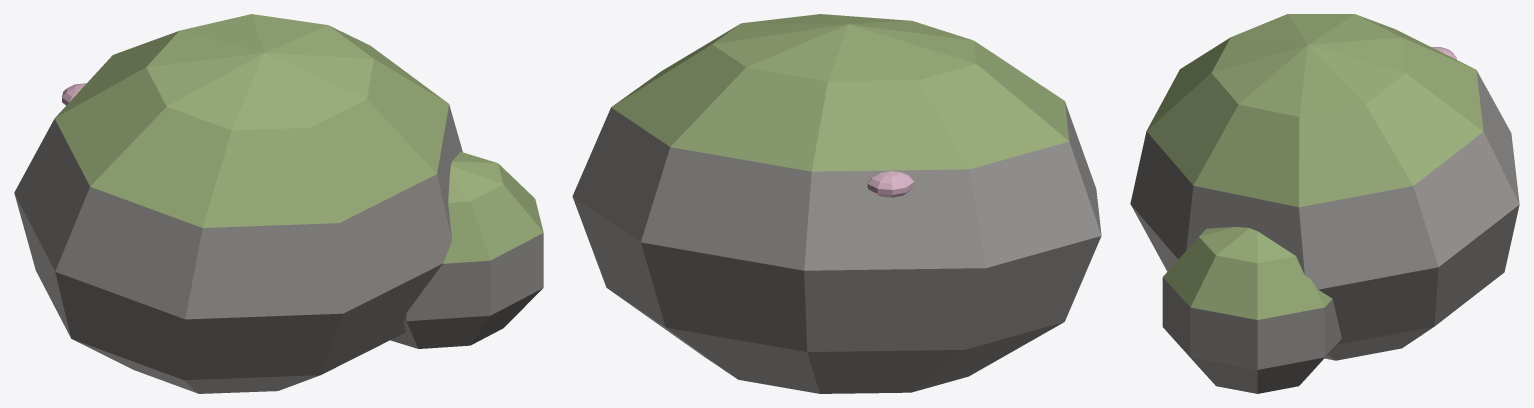
File: MossyBoulder.fbx
3 views of the same model, side by side, from view 1: azimuth 30°, elevation 25°; view 2: azimuth 150°, elevation 25°; view 3: azimuth 270°, elevation 25° (orthographic). The views are drawn at different scales.
Visible parts, largest first — view 1: Prop_MossyBoulder; view 2: Prop_MossyBoulder; view 3: Prop_MossyBoulder.
Part boxes in pixels (bbox=[...]): Prop_MossyBoulder: bbox=[14, 14, 543, 393]; Prop_MossyBoulder: bbox=[572, 14, 1101, 393]; Prop_MossyBoulder: bbox=[1130, 14, 1519, 393].
Size of the model in its own units: 1.37 by 0.8912 by 1.09.
